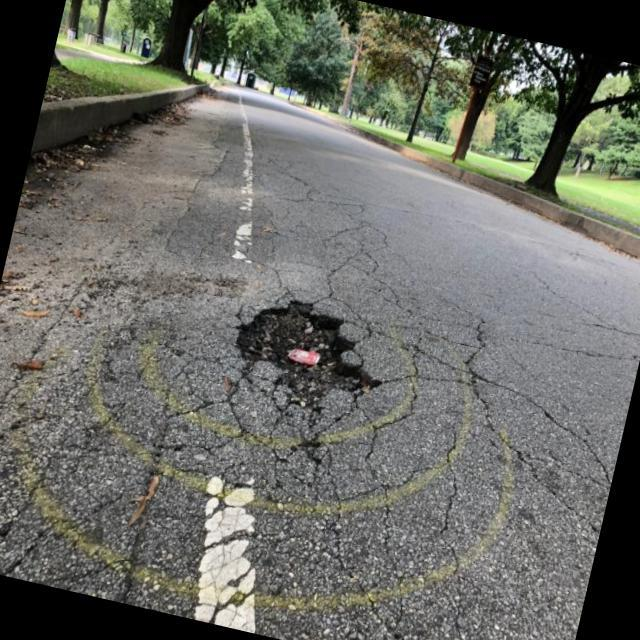Pothole: (218, 282, 392, 428)
